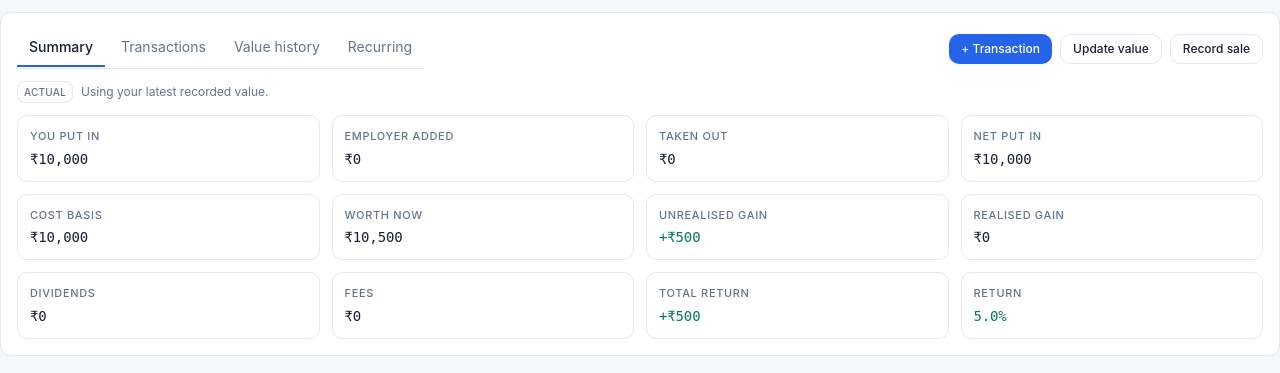
Scenario: HoldingLedger — transactions › warns that a schedule-created entry would be created again
The image size is (1280, 373).
Expected: the text "You put in" is shown, [30,129,100,143]
What coordinates should you click on to do the following:
click the tab "Transactions"
I would click on:
 (163, 48)
Its box is [109,29,218,67].
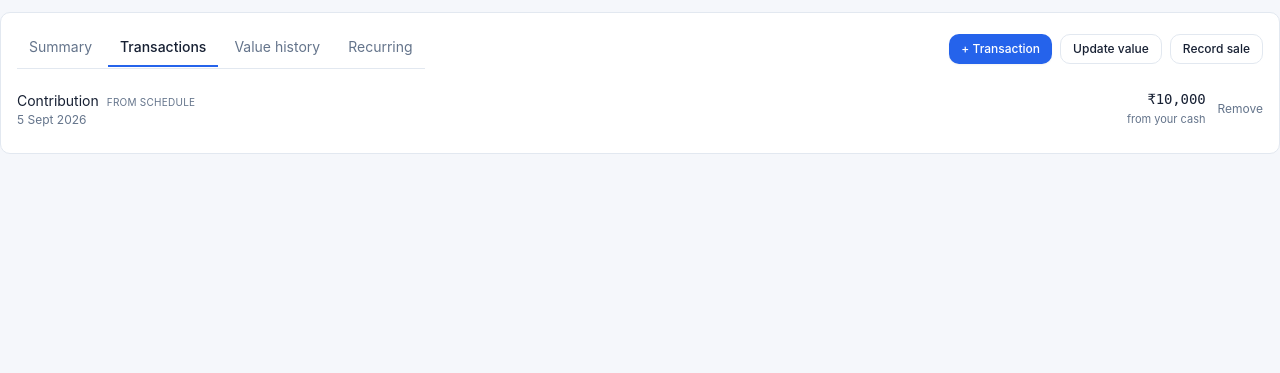
What coordinates should you click on to do the following:
click the button with aria-label "Delete Contribution"
I would click on:
 (1240, 109)
Its box is [1218,101,1263,117].
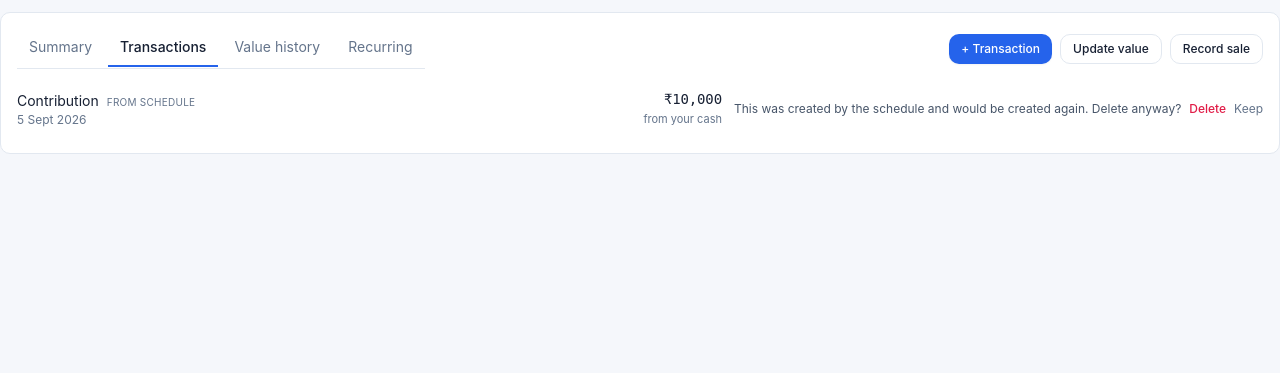
Result: the text "would be created again" is shown at [734,101,1181,116]
